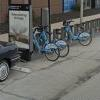Bicycle: (33, 20, 92, 63)
